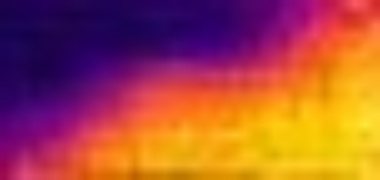Shadow: (1, 1, 308, 73), (1, 74, 129, 179)
